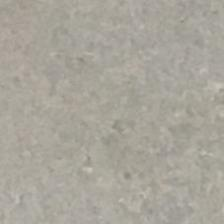Non_Crack: (50, 39, 216, 202)
